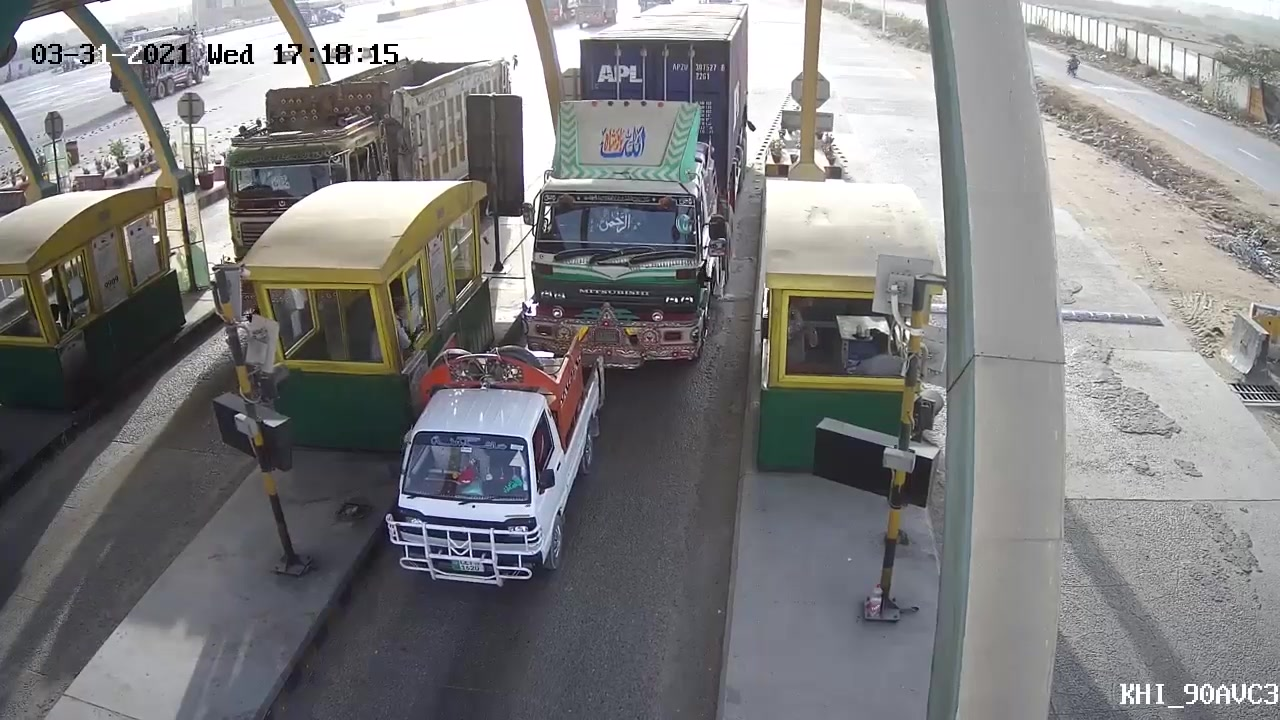F1: (365, 338, 608, 595)
F6: (524, 1, 756, 366)
